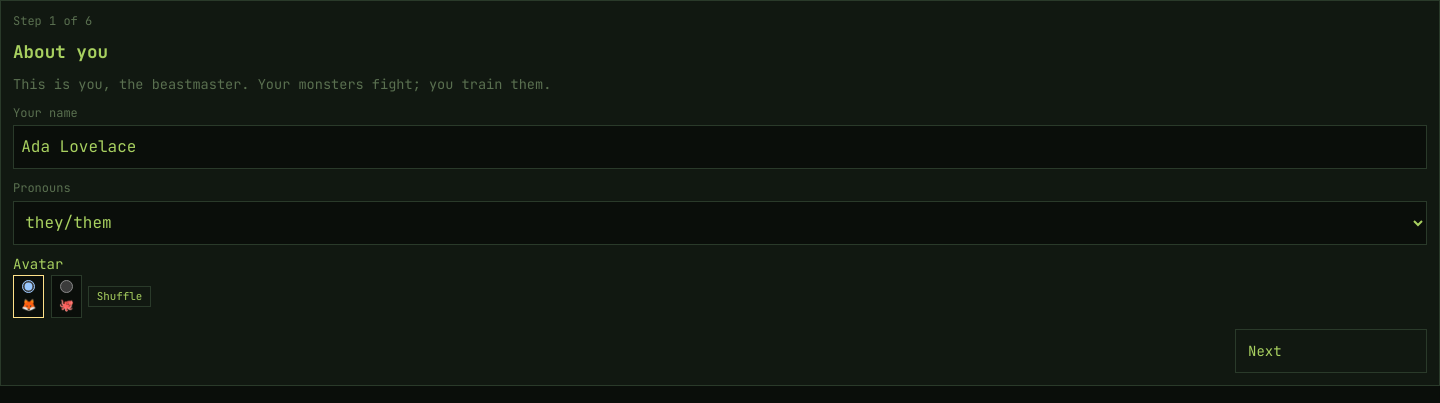
Test: TrainWizard › starts with About you, and counts it, on a first run
Expected: the text "Step 1 of 6" is shown, [13, 13, 92, 29]
Expected: the heading "About you" is shown, [13, 40, 108, 63]
Click the button "Next": (1331, 351) [1235, 329, 1427, 373]
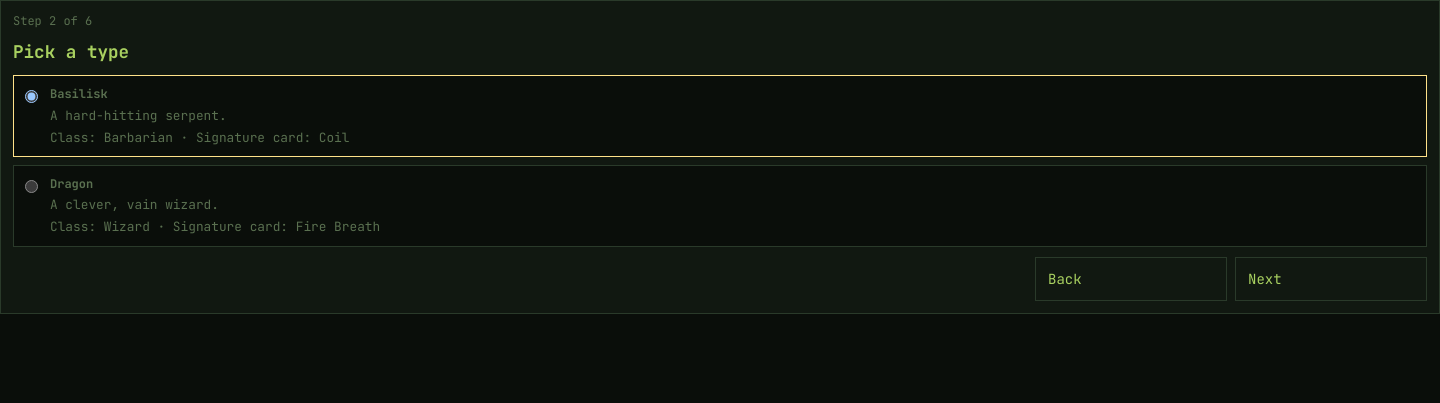
Now the text "Step 2 of 6" is shown, box [13, 13, 92, 29]
Now the heading "Pick a type" is shown, box [13, 40, 129, 63]
